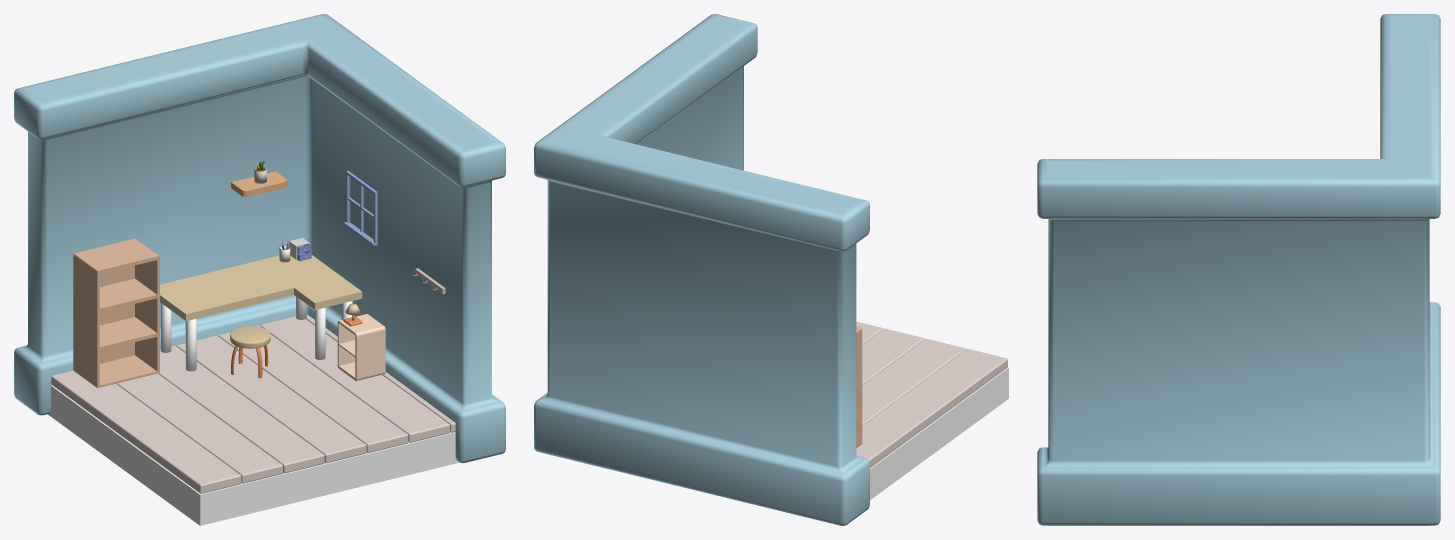
The model's file is newFirstScene.glb.
3 views of the same model, side by side, from view 1: azimuth 30°, elevation 25°; view 2: azimuth 150°, elevation 25°; view 3: azimuth 270°, elevation 25° (orthographic). The views are drawn at different scales.
Parts seen in each view (by area): view 1: background, models; view 2: background, models; view 3: background.
Boxes of the visible parts, bbox=[...] form: background: bbox=[14, 14, 505, 525]; models: bbox=[73, 161, 445, 388]; background: bbox=[534, 14, 1008, 525]; models: bbox=[856, 326, 862, 447]; background: bbox=[1037, 14, 1440, 525].
Bounding box in the file's own units: 2.12 × 2.01 × 2.12.
